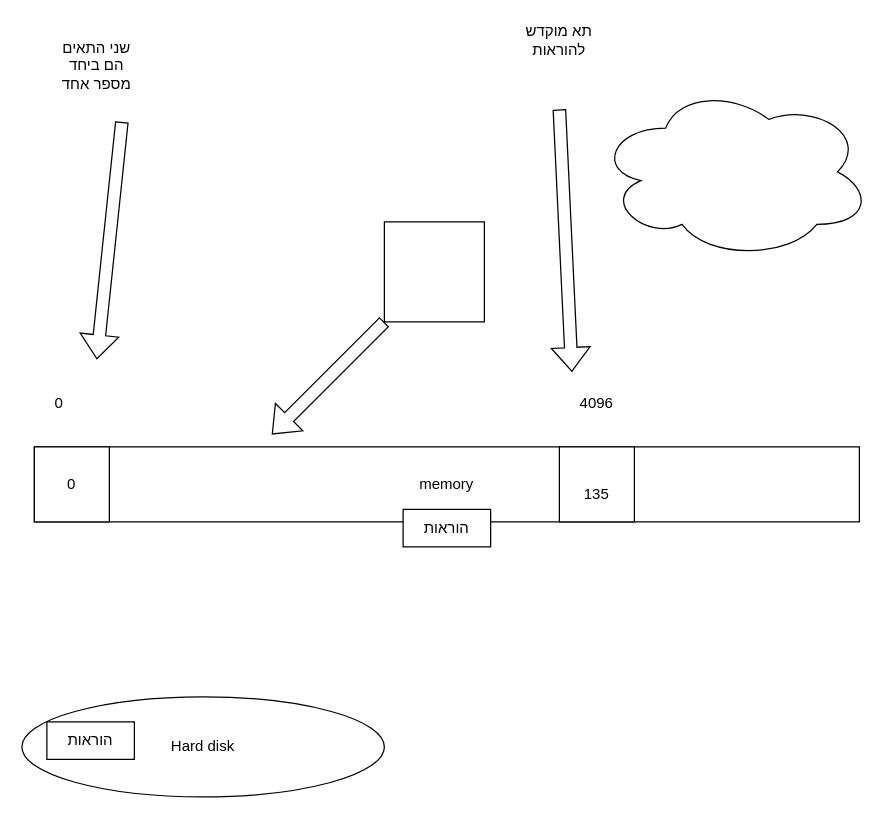
Image size: 894x819. Some labels were removed from this diagram. Each missing label, with the centre of its shape:
"CPU" goes at pixel 433 271.
"ליוסי היתה יום הולדת. קח את הגיל שלו מתא 1 ותוסיף לו 1" goes at pixel 734 171.
